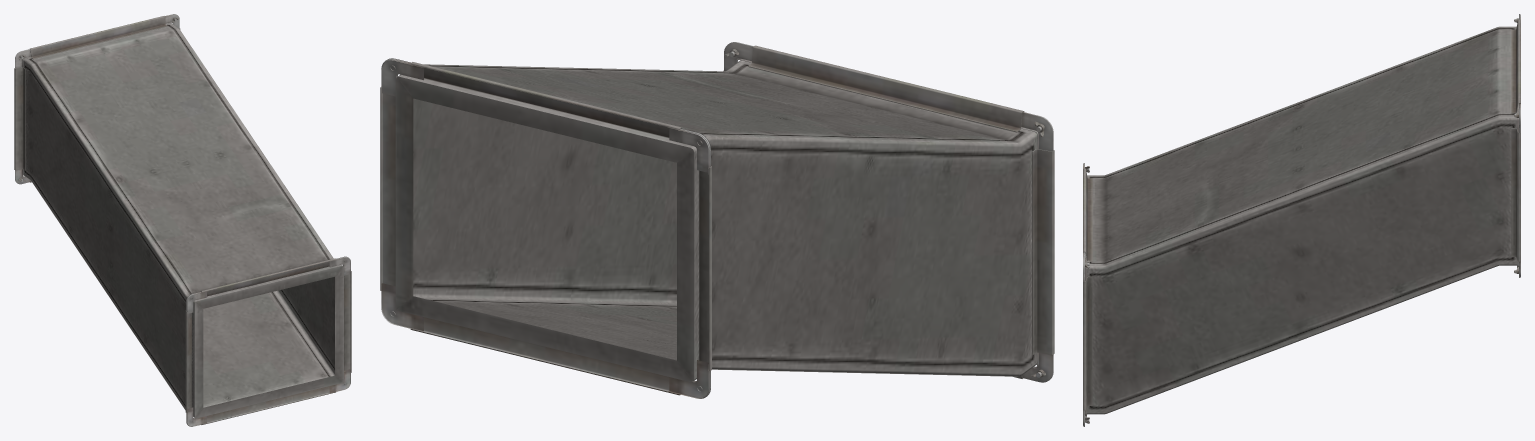
Rendered from transition_double_01.gltf.
The picture shows the model from 3 angles, left to right: view 1: azimuth 30°, elevation 25°; view 2: azimuth 150°, elevation 25°; view 3: azimuth 270°, elevation 25°; orthographic projection. The views are drawn at different scales.
Visible parts, largest first — view 1: transition_double_01; view 2: transition_double_01; view 3: transition_double_01.
Boxes of the visible parts, <box> form: transition_double_01: <box>14,14,351,426</box>; transition_double_01: <box>380,42,1054,398</box>; transition_double_01: <box>1083,14,1520,426</box>.
Bounding box in the file's own units: 0.6634 × 0.9626 × 1.2.
2 materials, 2 textured.
